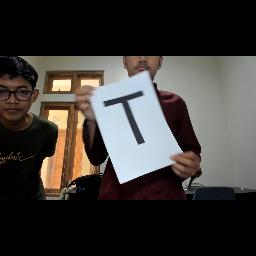t: (99, 86, 161, 158)
